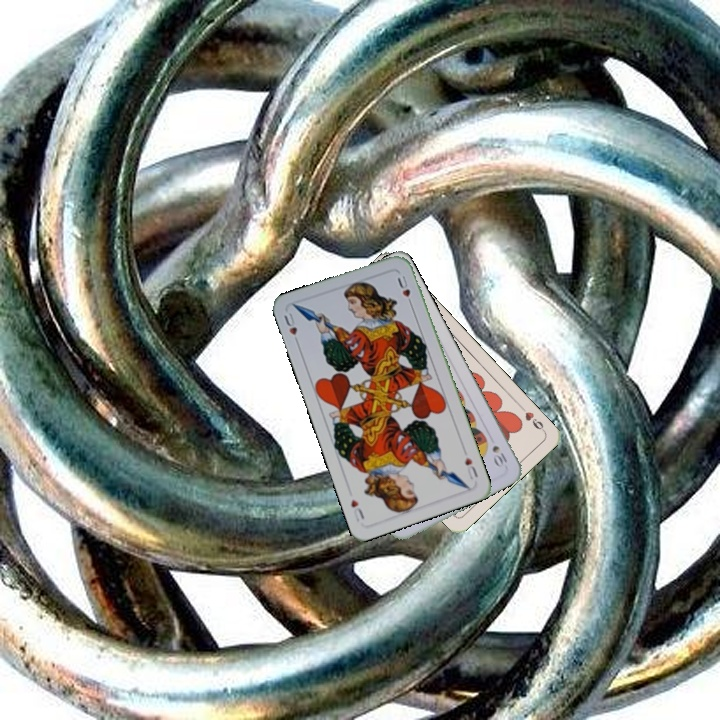H9: (516, 402, 547, 435)
HU: (280, 309, 302, 348), (461, 453, 481, 482)
S10: (488, 441, 510, 470)
